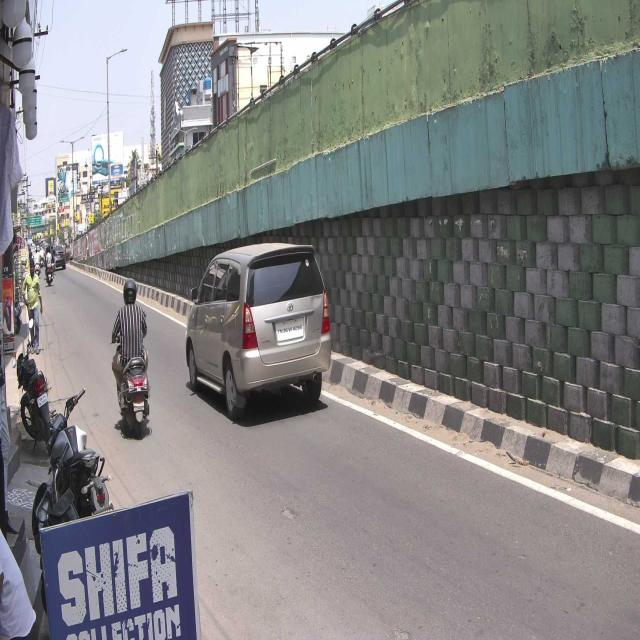single_rider: (112, 275, 154, 441)
